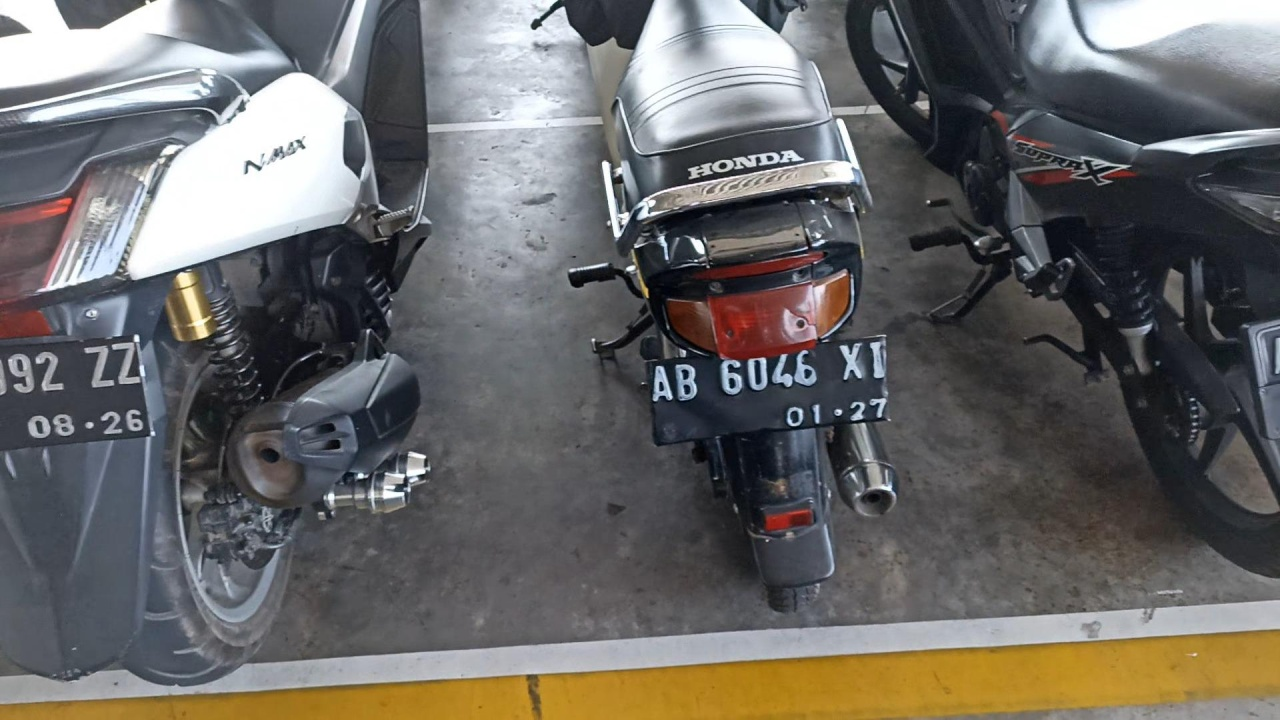plate: (647, 335, 890, 446)
